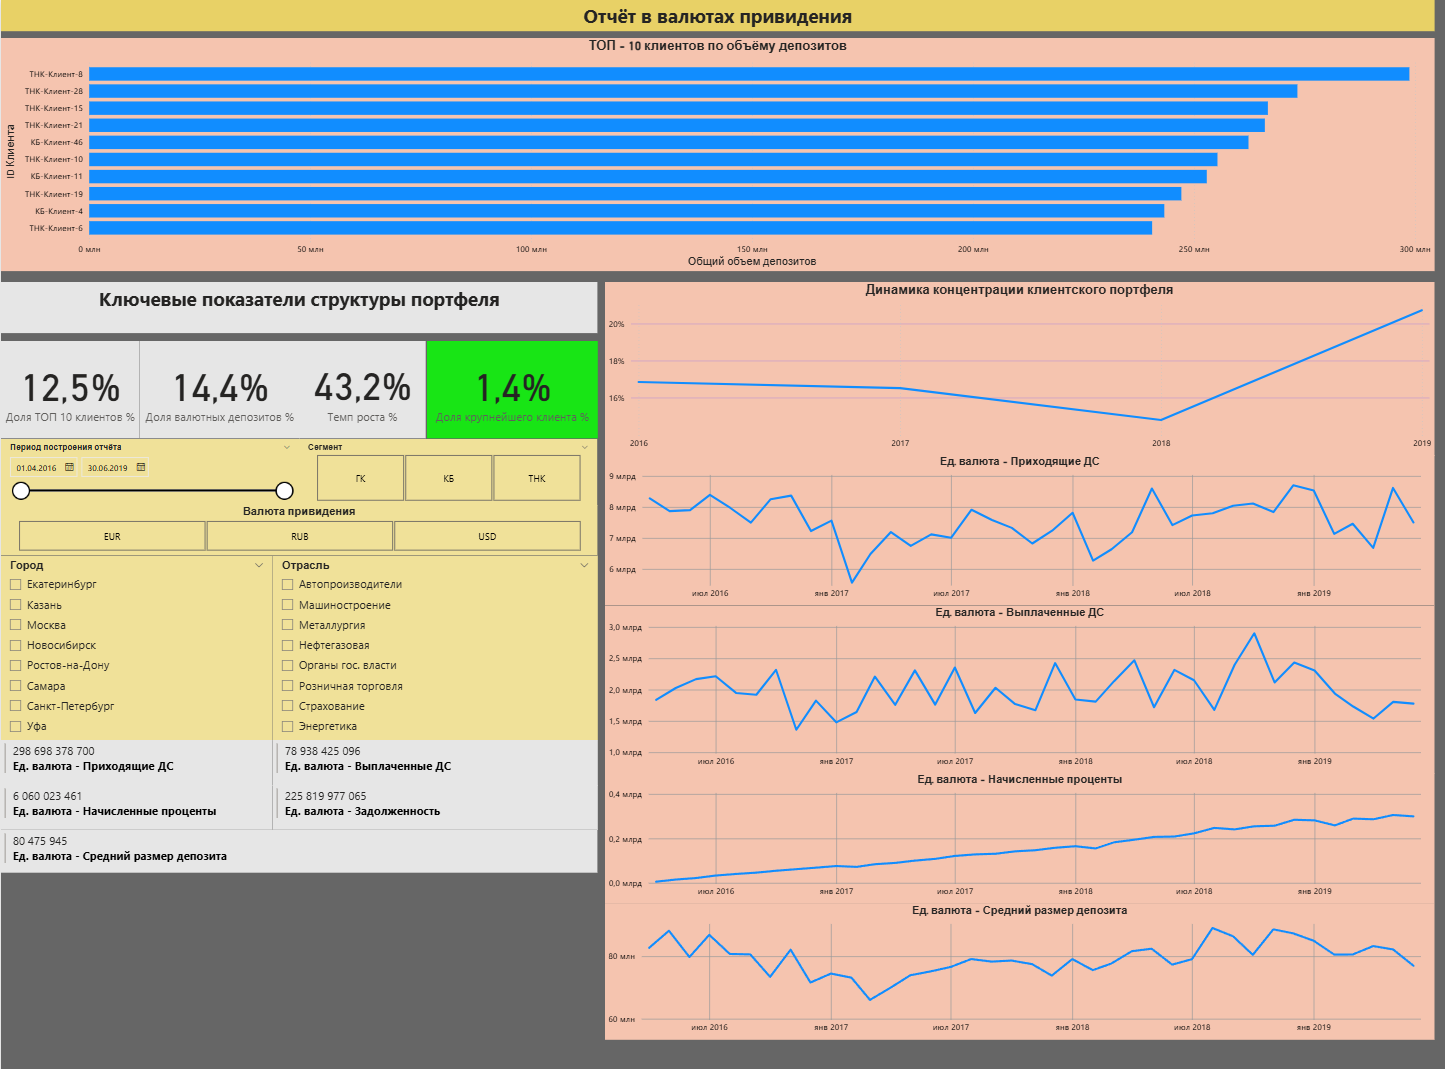

Layout of this report page (visuals, bound fields, positions):
{"tool":"powerbi","page":{"name":"Отчёт в валютах привидения","canvas":[2070,2000],"ordinal":1},"visuals":[{"type":"slicer","fields":{"Values":["Календарь (Курс валют).Дата"]},"box":[0,628,426,95],"z":0},{"type":"slicer","fields":{"Values":["Клиенты.Отрасль"]},"box":[388,795,464,263],"z":1000},{"type":"slicer","fields":{"Values":["Клиенты.Сегмент"]},"box":[426,628,426,95],"z":2000},{"type":"slicer","fields":{"Values":["Клиенты.Город"]},"box":[0,795,388,263],"z":3000},{"type":"textbox","box":[0,0,2048,46],"z":4000},{"type":"slicer","title":"Валюта привидения","fields":{"Values":["Валюта (Для приведения в единую валюту).Символ"]},"box":[0,723,852,72],"z":5000},{"type":"multiRowCard","fields":{"Values":["Меры для визуализации (Единая валюта).Ед. валюта - Приходящие ДС"]},"box":[0,1058,388,65],"z":6000},{"type":"multiRowCard","fields":{"Values":["Меры для визуализации (Единая валюта).Ед. валюта - Выплаченные ДС"]},"box":[388,1058,464,65],"z":7000},{"type":"multiRowCard","fields":{"Values":["Меры для визуализации (Единая валюта).Ед. валюта - Начисленные проценты"]},"box":[0,1123,388,64],"z":8000},{"type":"multiRowCard","fields":{"Values":["Меры для визуализации (Единая валюта).Ед. валюта - Задолженность"]},"box":[388,1123,464,64],"z":9000},{"type":"multiRowCard","fields":{"Values":["Меры для визуализации (Единая валюта).Ед. валюта - Средний размер депозита"]},"box":[0,1187,852,61],"z":10000},{"type":"lineChart","title":"Ед. валюта - Приходящие ДС ","fields":{"Y":["Меры для визуализации (Единая валюта).Ед. валюта - Приходящие ДС"],"Category":["Календарь (Курс валют).Дата.Изменение.Иерархия дат.Год","Календарь (Курс валют).Дата.Изменение.Иерархия дат.Месяц"]},"box":[863,652,1185,215],"z":11000},{"type":"lineChart","title":"Ед. валюта - Выплаченные ДС","fields":{"Y":["Меры для визуализации (Единая валюта).Ед. валюта - Выплаченные ДС"],"Category":["Календарь (Курс валют).Дата.Изменение.Иерархия дат.Год","Календарь (Курс валют).Дата.Изменение.Иерархия дат.Месяц"]},"box":[863,867,1185,239],"z":12000},{"type":"lineChart","title":"Ед. валюта - Начисленные проценты","fields":{"Category":["Календарь (Курс валют).Дата.Изменение.Иерархия дат.Год","Календарь (Курс валют).Дата.Изменение.Иерархия дат.Месяц"],"Y":["Меры для визуализации (Единая валюта).Ед. валюта - Начисленные проценты"]},"box":[863,1106,1185,187],"z":13000},{"type":"lineChart","title":"Ед. валюта - Средний размер депозита ","fields":{"Y":["Меры для визуализации (Единая валюта).Ед. валюта - Средний размер депозита"],"Category":["Календарь (Курс валют).Дата.Изменение.Иерархия дат.Год","Календарь (Курс валют).Дата.Изменение.Иерархия дат.Месяц"]},"box":[863,1293,1185,194],"z":14000},{"type":"card","fields":{"Values":["Меры для создания показателей.Доля ТОП 10 клиентов %"]},"box":[0,489,198,139],"z":15000},{"type":"card","fields":{"Values":["Меры для создания показателей.Доля валютных депозитов %"]},"box":[198,489,228,139],"z":16000},{"type":"card","fields":{"Values":["Меры для создания показателей.Темп роста %"]},"box":[425.7,488.6,181.4,138.6],"z":17000},{"type":"clusteredBarChart","title":"ТОП - 10 клиентов по объёму депозитов","fields":{"Category":["Клиенты.ID Клиента"],"Y":["Меры для создания показателей.Общий объем депозитов"]},"box":[0,56,2048,333],"z":18000},{"type":"lineChart","title":"Динамика концентрации клиентского портфеля","fields":{"Category":["Календарь (Курс валют).Дата.Изменение.Иерархия дат.Год","Календарь (Курс валют).Дата.Изменение.Иерархия дат.Месяц"],"Y":["Меры для создания показателей.Доля ТОП 10 динамика"]},"box":[863,404,1185,248],"z":19000},{"type":"card","title":"Доля крупнейшего клиента в портфеле","fields":{"Values":["Меры для создания показателей.Доля крупнейшего клиента %"]},"box":[608,489,244,139],"z":20000},{"type":"textbox","box":[0,404,852,73],"z":21000}]}

Visuals, with their boxes on the page's 2070x2000 design canvas (x1, y1, x2, y2). These are canvas units, not pixel positions in the 1445x1069 screenshot, which may show the page scaled, cropped or inside an application window:
slicer - Календарь (Курс валют).Дата: BBox(0, 628, 426, 723)
slicer - Клиенты.Отрасль: BBox(388, 795, 852, 1058)
slicer - Клиенты.Сегмент: BBox(426, 628, 852, 723)
slicer - Клиенты.Город: BBox(0, 795, 388, 1058)
textbox: BBox(0, 0, 2048, 46)
"Валюта привидения" slicer: BBox(0, 723, 852, 795)
multiRowCard - Меры для визуализации (Единая валюта).Ед. валюта - Приходящие ДС: BBox(0, 1058, 388, 1123)
multiRowCard - Меры для визуализации (Единая валюта).Ед. валюта - Выплаченные ДС: BBox(388, 1058, 852, 1123)
multiRowCard - Меры для визуализации (Единая валюта).Ед. валюта - Начисленные проценты: BBox(0, 1123, 388, 1187)
multiRowCard - Меры для визуализации (Единая валюта).Ед. валюта - Задолженность: BBox(388, 1123, 852, 1187)
multiRowCard - Меры для визуализации (Единая валюта).Ед. валюта - Средний размер депозита: BBox(0, 1187, 852, 1248)
"Ед. валюта - Приходящие ДС " lineChart: BBox(863, 652, 2048, 867)
"Ед. валюта - Выплаченные ДС" lineChart: BBox(863, 867, 2048, 1106)
"Ед. валюта - Начисленные проценты" lineChart: BBox(863, 1106, 2048, 1293)
"Ед. валюта - Средний размер депозита " lineChart: BBox(863, 1293, 2048, 1487)
card - Меры для создания показателей.Доля ТОП 10 клиентов %: BBox(0, 489, 198, 628)
card - Меры для создания показателей.Доля валютных депозитов %: BBox(198, 489, 426, 628)
card - Меры для создания показателей.Темп роста %: BBox(426, 489, 607, 627)
"ТОП - 10 клиентов по объёму депозитов" clusteredBarChart: BBox(0, 56, 2048, 389)
"Динамика концентрации клиентского портфеля" lineChart: BBox(863, 404, 2048, 652)
"Доля крупнейшего клиента в портфеле" card: BBox(608, 489, 852, 628)
textbox: BBox(0, 404, 852, 477)
